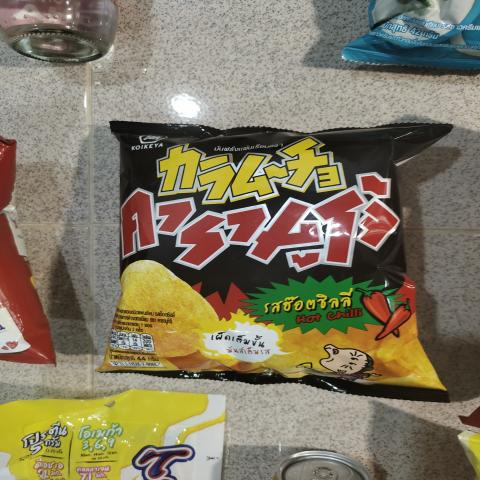karamujo: (114, 125, 415, 377)
